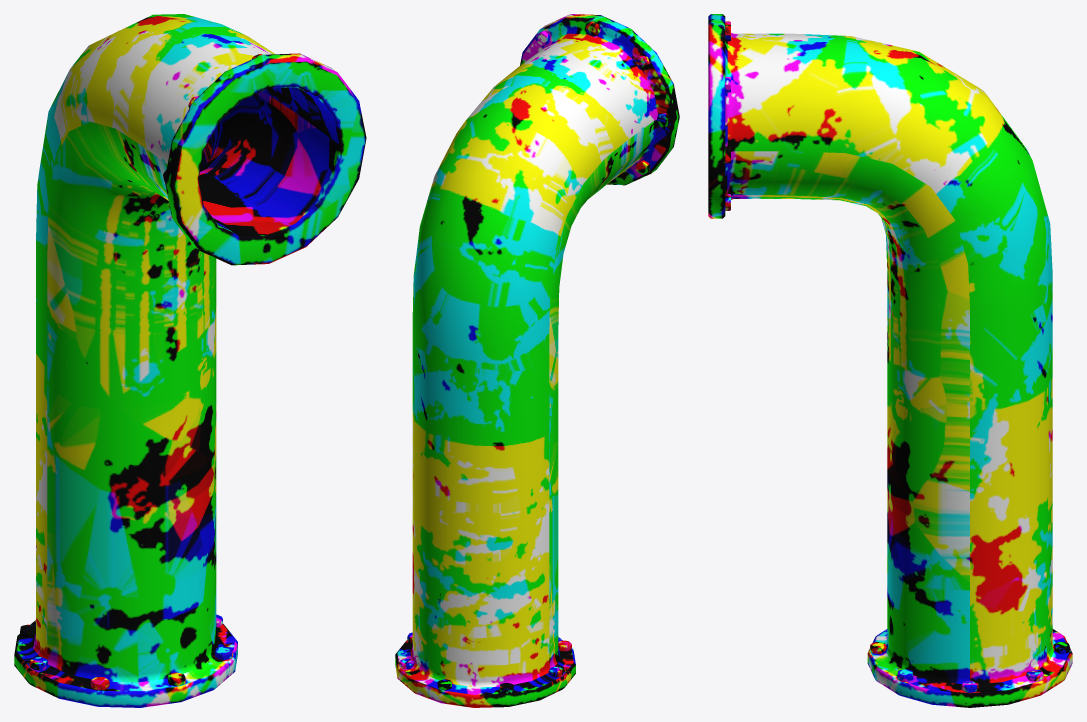
Rendered from sm_PipeElbow_01_02.fbx.
3 renders of one model, left to right at view 1: azimuth 30°, elevation 25°; view 2: azimuth 150°, elevation 25°; view 3: azimuth 270°, elevation 25°, orthographic. The views are drawn at different scales.
Parts seen in each view (by area): view 1: sm_PipeElbow_01_02_LOD0; view 2: sm_PipeElbow_01_02_LOD0; view 3: sm_PipeElbow_01_02_LOD0.
Boxes of the visible parts, x1,y1,x2,y2 form: sm_PipeElbow_01_02_LOD0: [14, 14, 366, 707]; sm_PipeElbow_01_02_LOD0: [395, 14, 679, 707]; sm_PipeElbow_01_02_LOD0: [708, 14, 1072, 707].
Bounding box in the file's own units: 29.76 × 52.88 × 103.
